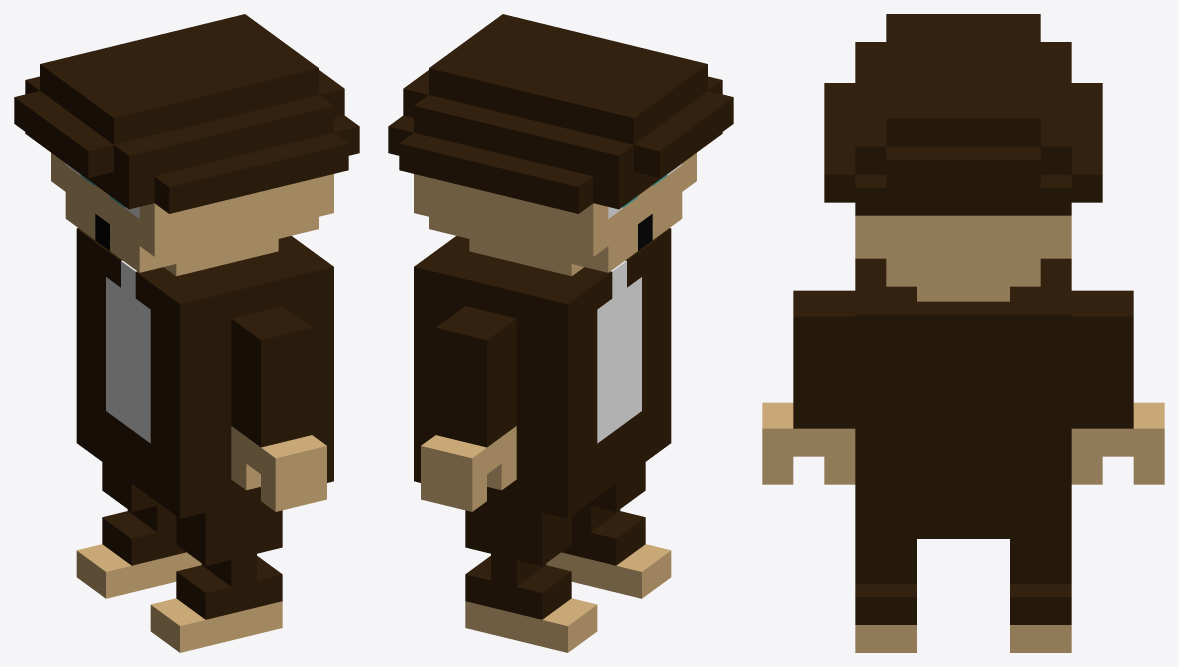
File: lvl1-19.obj
3 views of the same model, side by side, from view 1: azimuth 30°, elevation 25°; view 2: azimuth 150°, elevation 25°; view 3: azimuth 270°, elevation 25° (orthographic). The views are drawn at different scales.
Size of the model in its own units: 1 by 2 by 1.3.
Materials: 1 (1 with a texture image).
